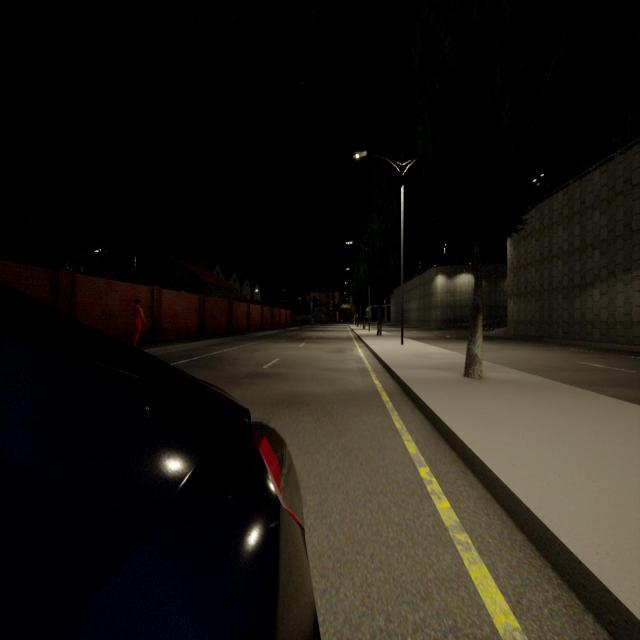Pedestrian: (133, 299, 145, 345)
Vehicle: (0, 288, 314, 638)
